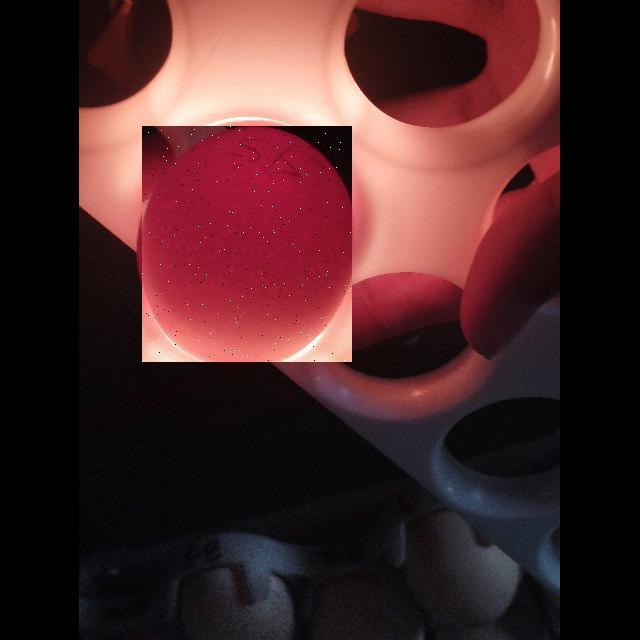Fertile: (142, 126, 352, 362)
